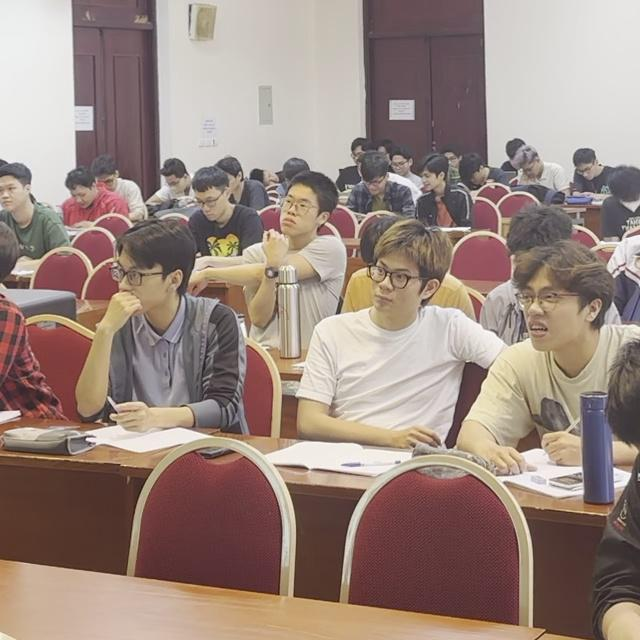Looking away: (197, 183, 230, 221), (69, 178, 94, 209), (421, 164, 443, 190), (521, 154, 542, 180), (366, 170, 386, 197), (165, 166, 183, 195), (578, 158, 598, 182)
Looking forward: (523, 273, 585, 353), (371, 246, 423, 316), (113, 248, 163, 314), (278, 183, 318, 236)
